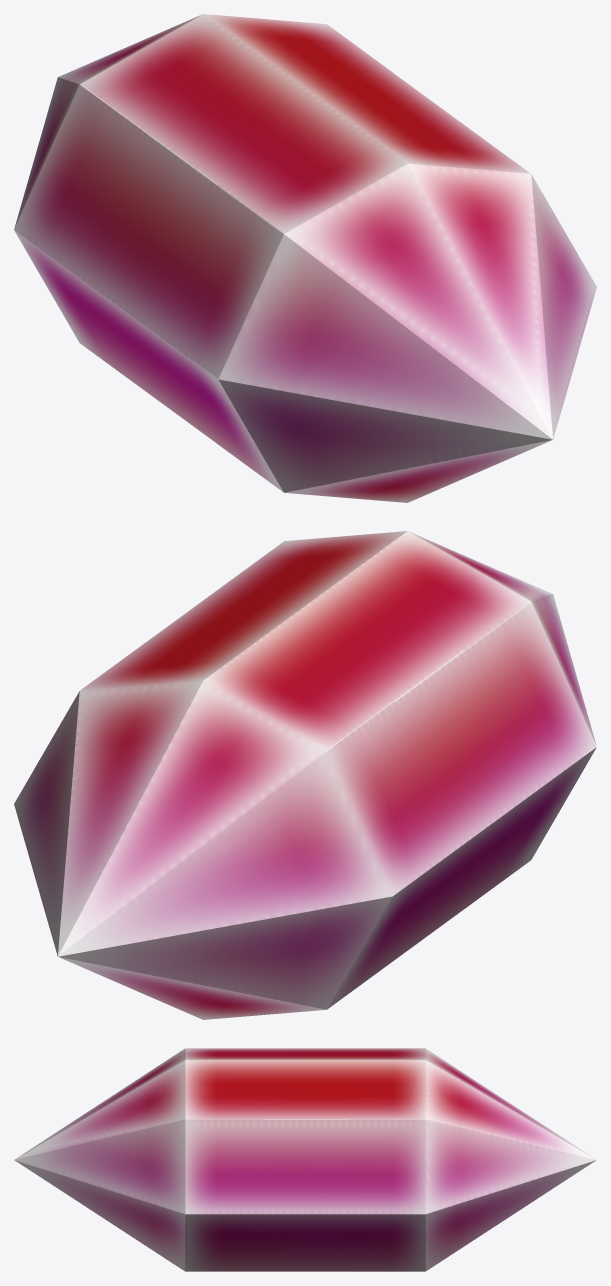
File: regular.obj
3 views of the same model, one above another, from view 1: azimuth 30°, elevation 25°; view 2: azimuth 150°, elevation 25°; view 3: azimuth 270°, elevation 25° (orthographic). The views are drawn at different scales.
Parts seen in each view (by area): view 1: Cube; view 2: Cube; view 3: Cube.
Part boxes in pixels (x1,y1,x2,y2): Cube: (14, 14, 596, 502); Cube: (14, 531, 596, 1019); Cube: (14, 1048, 596, 1271).
Size of the model in its own units: 0.1509 by 0.1293 by 0.342.
